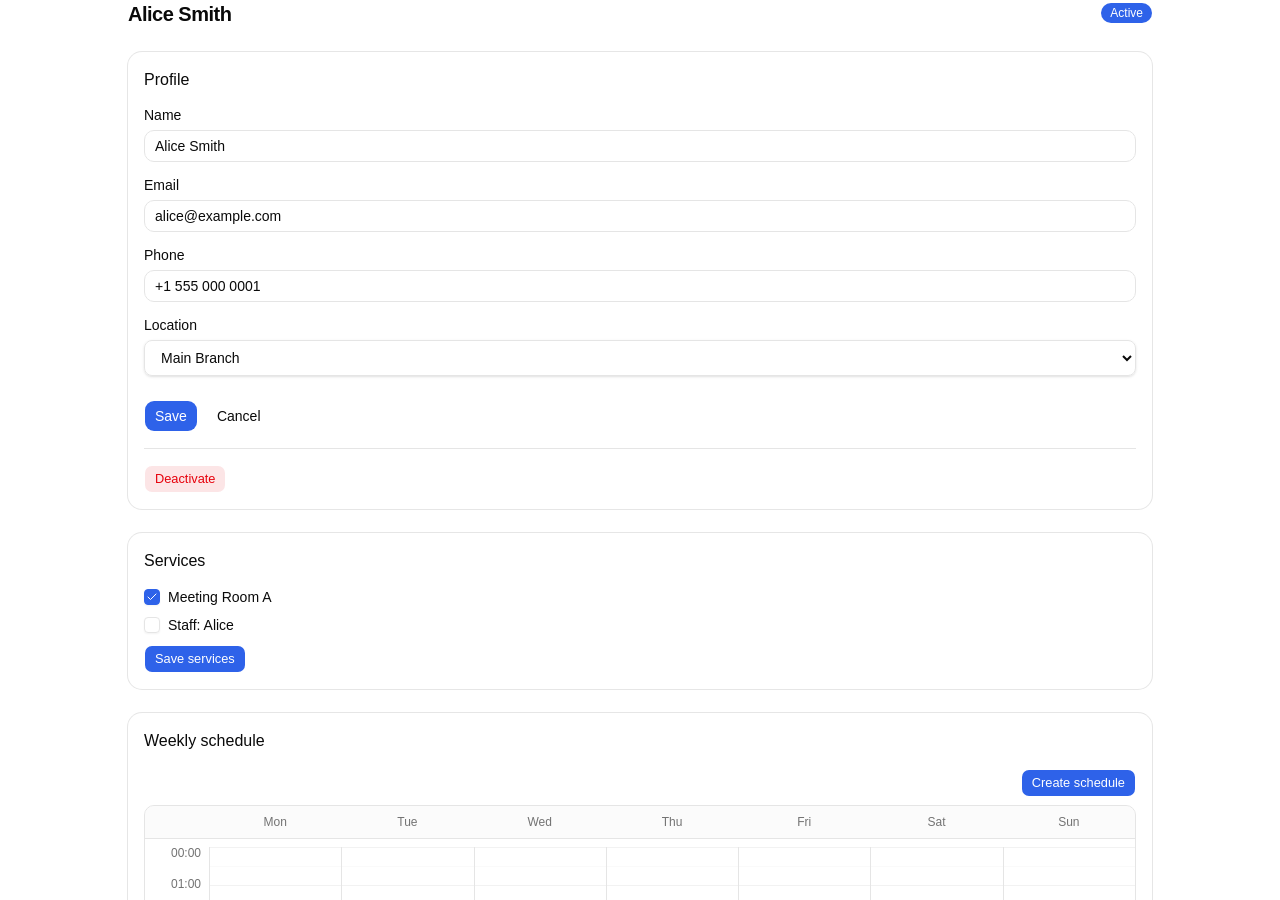
Scenario: Staff › Staff detail — profile › deactivate button opens confirmation dialog
Expected: the heading "Alice Smith" is shown, [128,0,231,28]
What coordinates should you click on to do the following:
click the button "Deactivate"
I would click on:
 (185, 479)
Its box is [144,465,226,493].
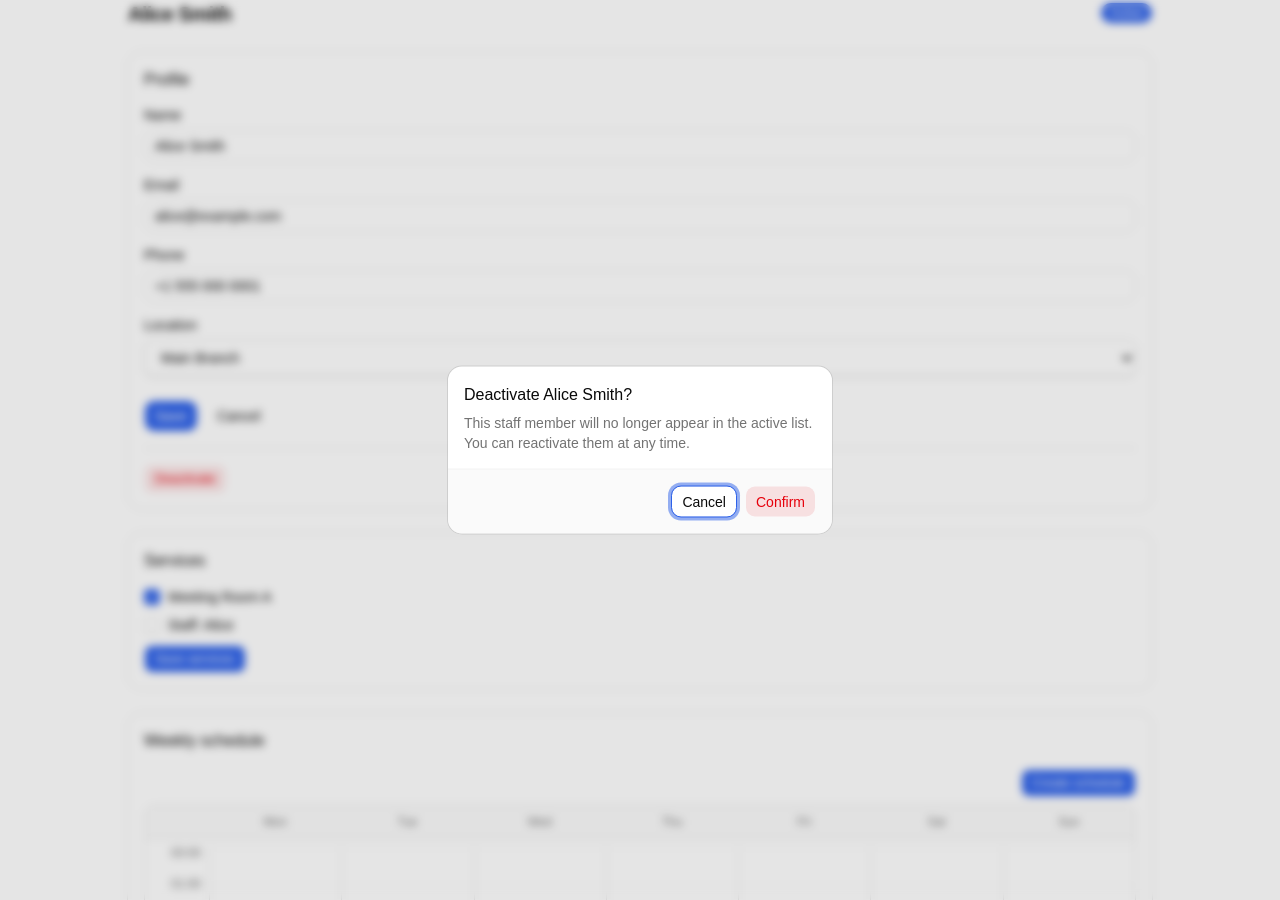
Now the dialog is shown, box [448,366,832,534]
